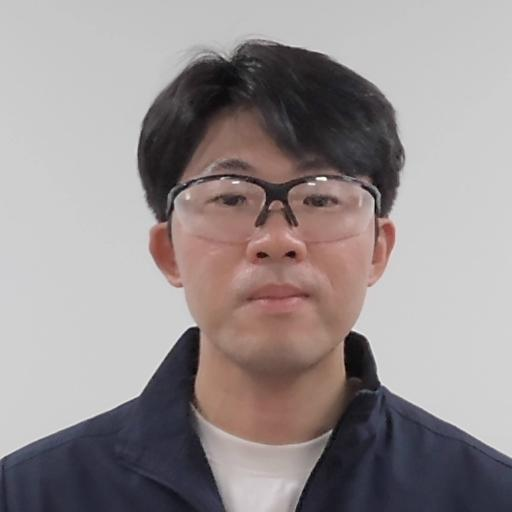glasses: (136, 42, 413, 370)
